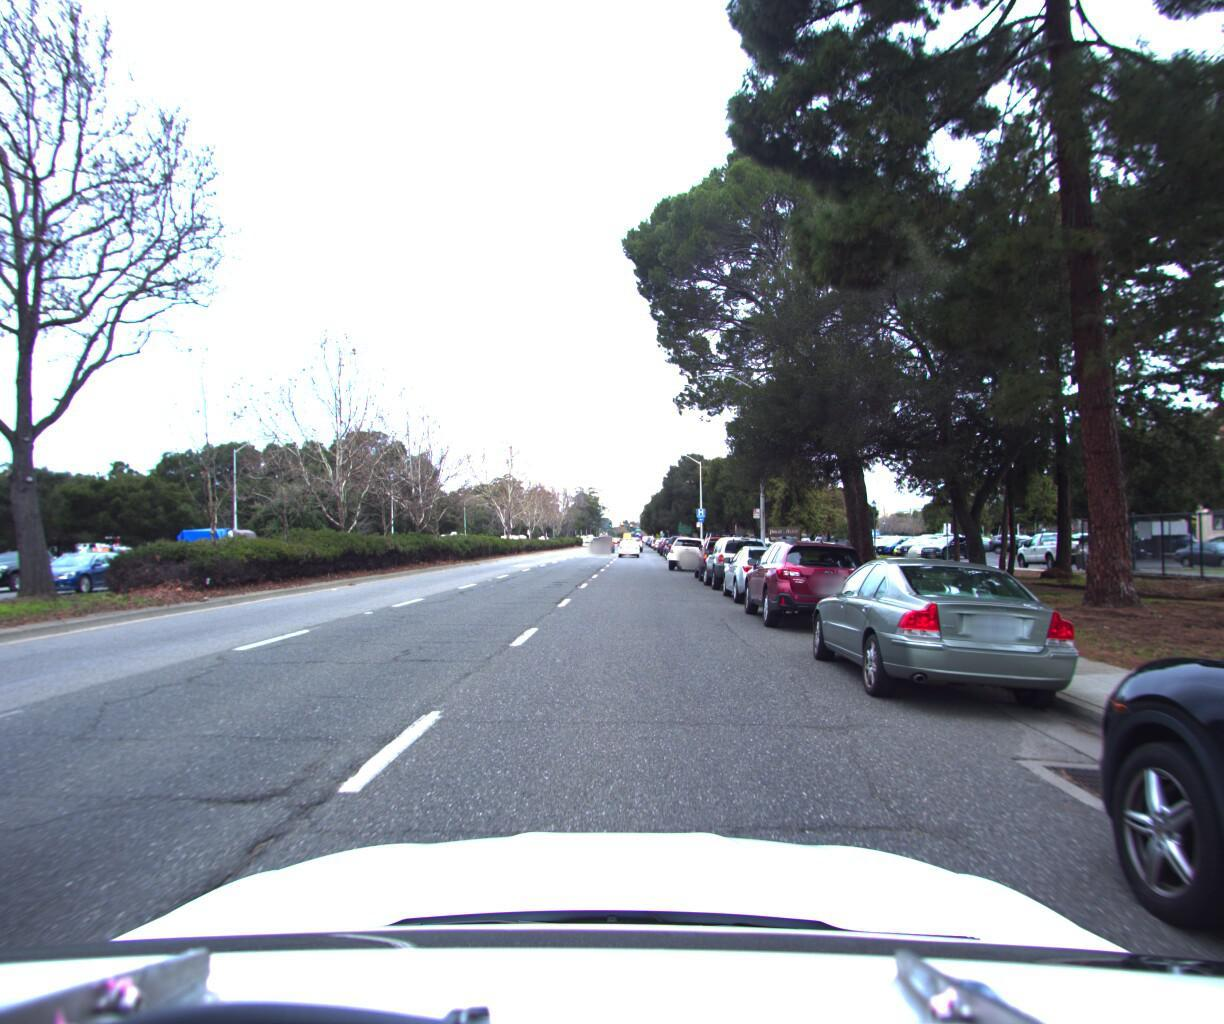car: (802, 545, 1090, 730), (737, 529, 884, 636), (17, 546, 158, 597), (718, 539, 809, 607), (700, 528, 774, 588), (0, 546, 87, 595), (690, 524, 752, 578), (664, 530, 714, 566), (662, 528, 692, 556), (616, 534, 639, 553), (596, 529, 615, 548)
other_vehicle: (171, 523, 265, 576)
